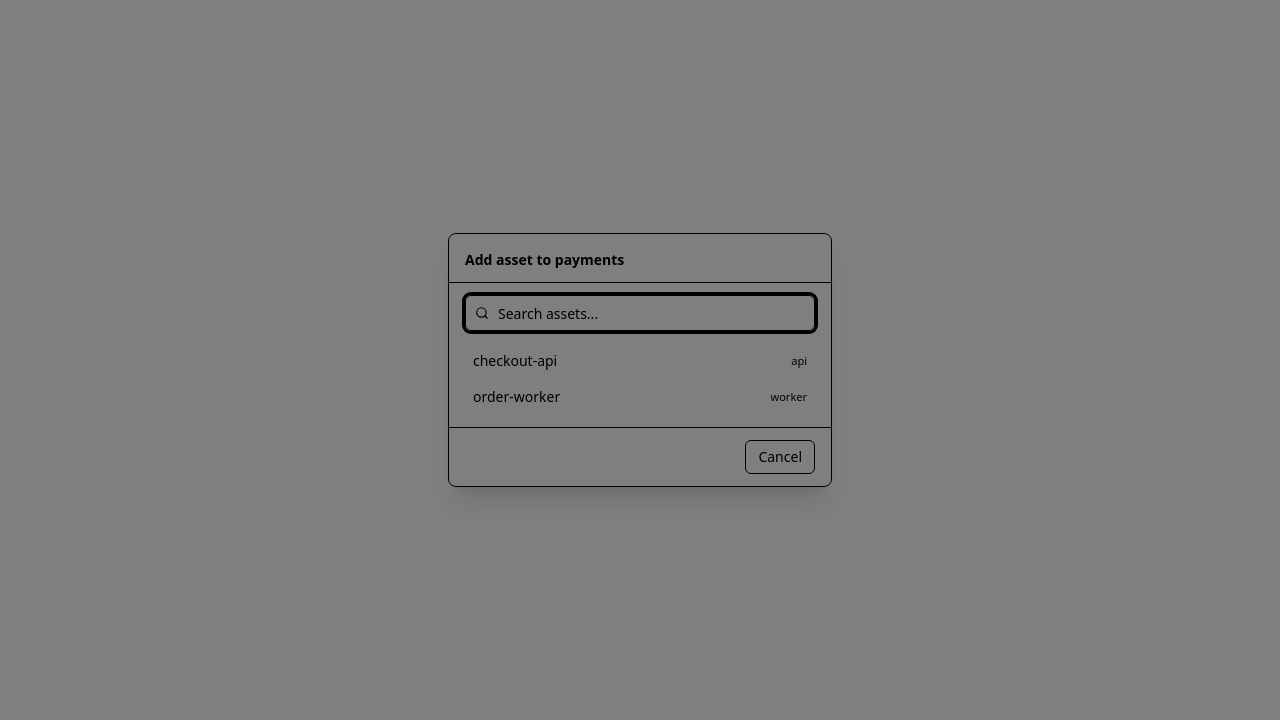
AddAssetToGroupDialog › search filter narrows list
Step 1. Type "checkout" into the field with placeholder "Search assets..." → (640, 313), box x1=465 y1=295 x2=815 y2=331
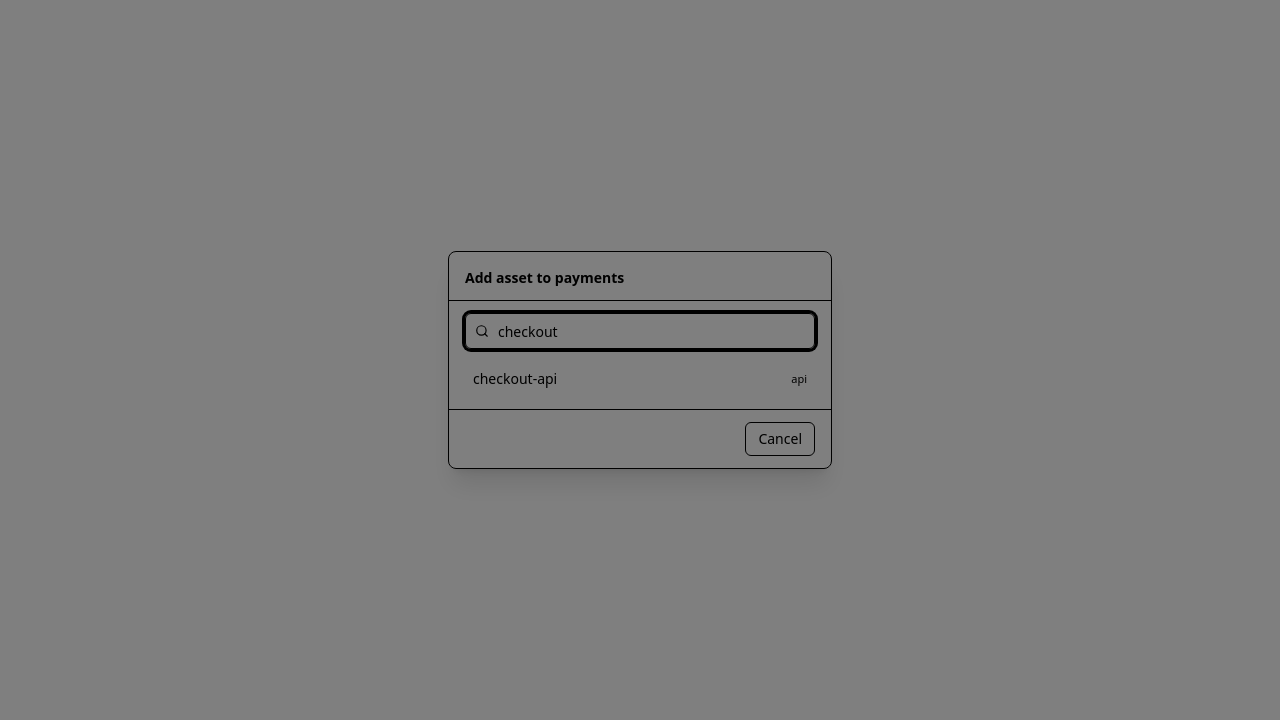
expect the text "checkout-api" is shown: met, box x1=473 y1=369 x2=557 y2=389
expect the button "order-worker" is gone: met
